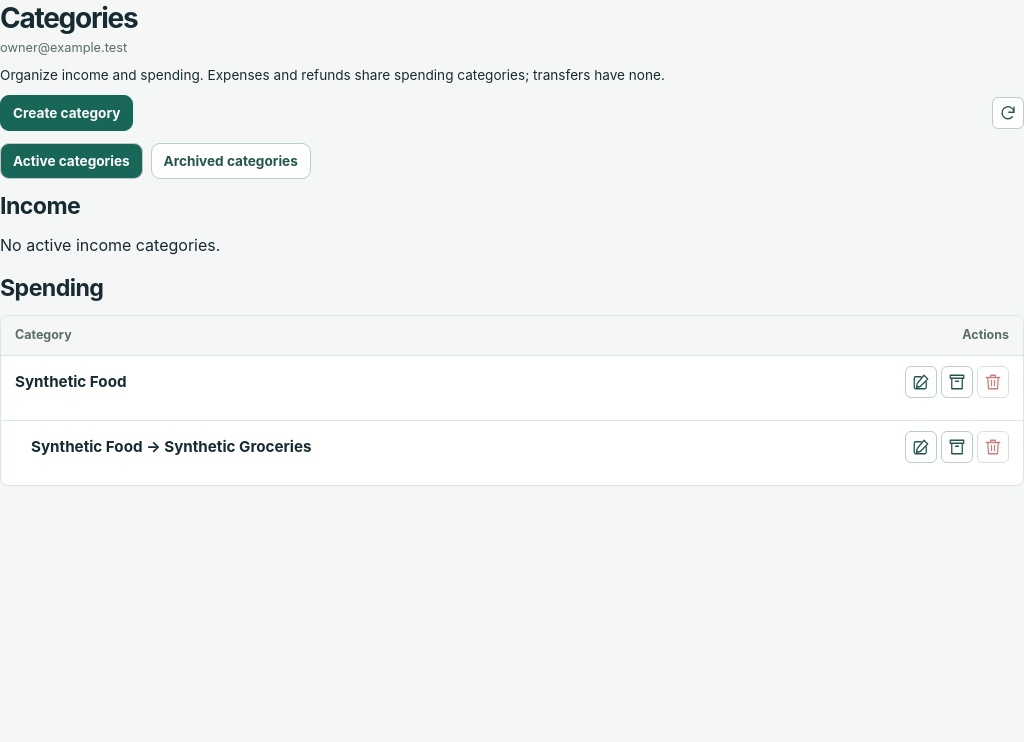
Test: locks used hierarchy and unused parents with children, preserving stale edits
Expected: the heading "Synthetic Food → Synthetic Groceries" is shown, x1=31 y1=437 x2=312 y2=456
Step 1. Click the button named "Edit category" in the row of "Synthetic Food → Synthetic Groceries" → click(921, 447), box x1=905 y1=431 x2=937 y2=463
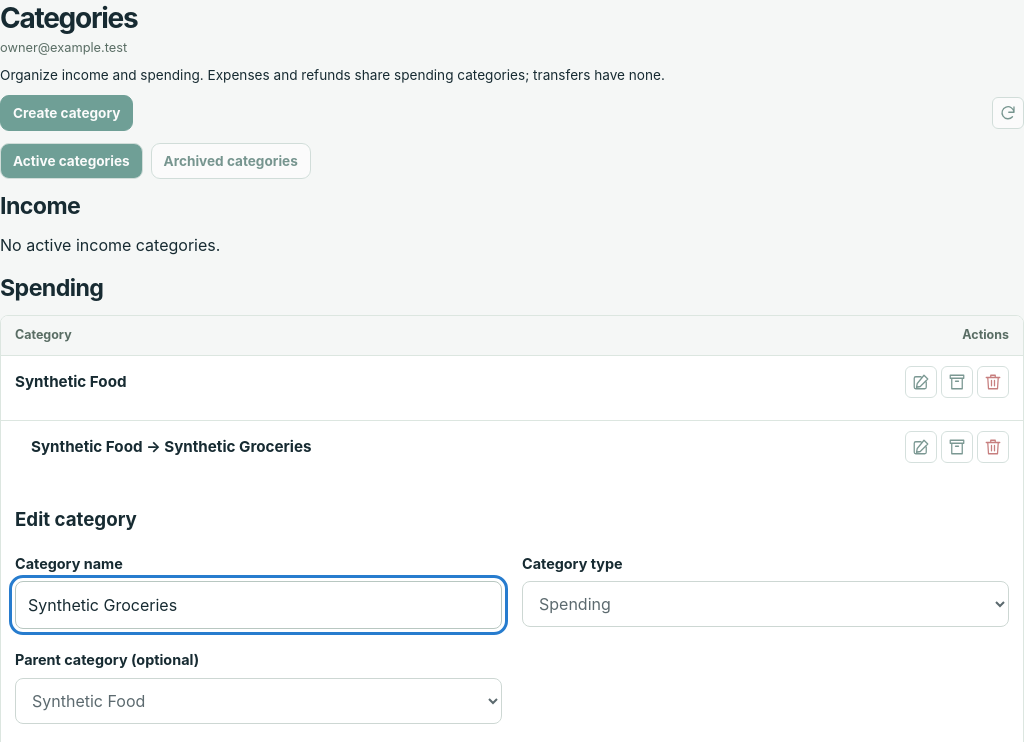
Expected: the dropdown labelled "Category type" is disabled, x1=522 y1=581 x2=1009 y2=627
Expected: the dropdown labelled "Parent category (optional)" is disabled, x1=15 y1=678 x2=502 y2=724
Step 2. Replace the text in the field labelled "Category name" with "Synthetic Shopping" → (258, 605), box x1=15 y1=581 x2=502 y2=629
(page scrolled)
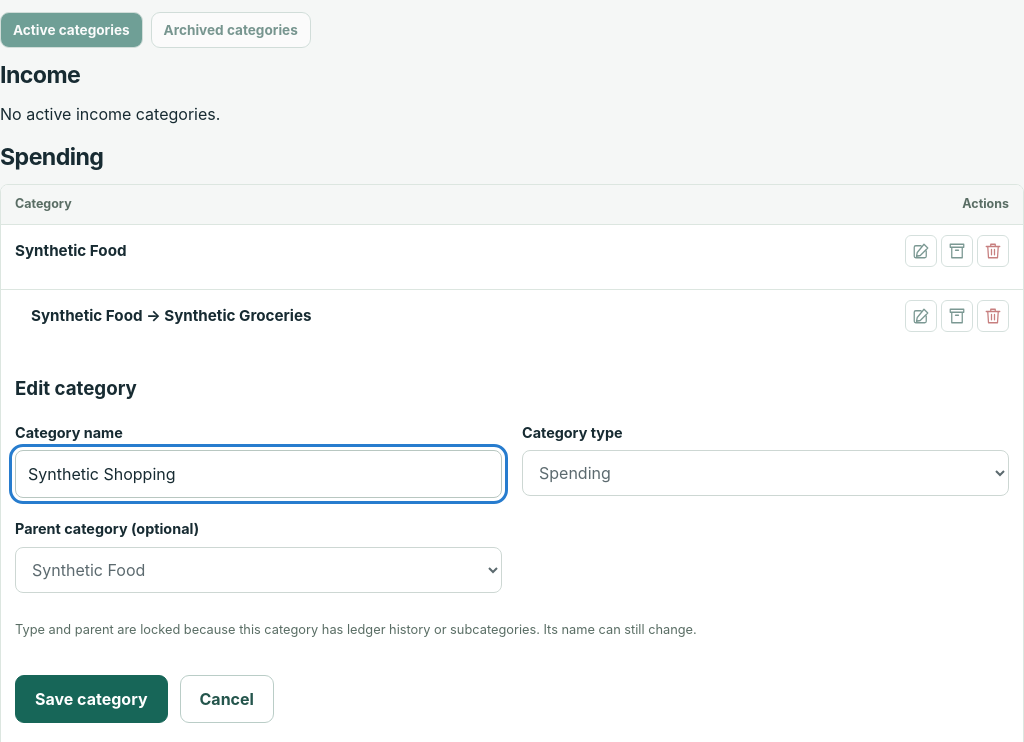
Step 3. Click the button "Save category" → click(91, 699), box x1=15 y1=675 x2=168 y2=723
(page scrolled)
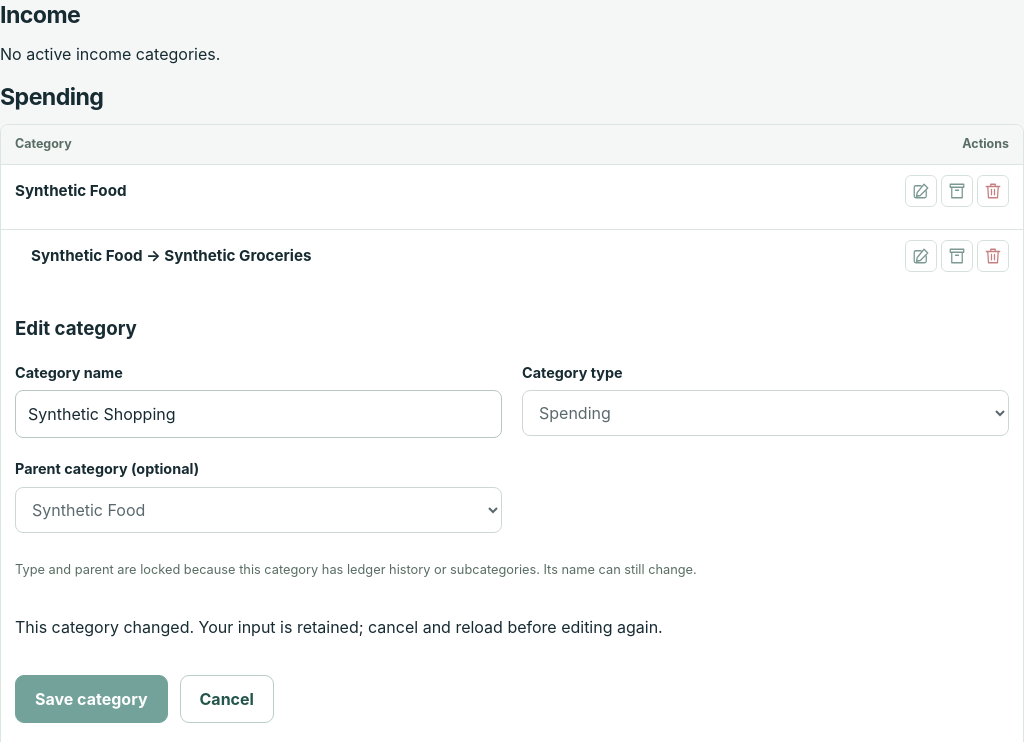
Expected: the button "Save category" is disabled, x1=15 y1=675 x2=168 y2=723
Step 4. Click the button "Cancel" → click(227, 699), box x1=180 y1=675 x2=274 y2=723
(page scrolled)
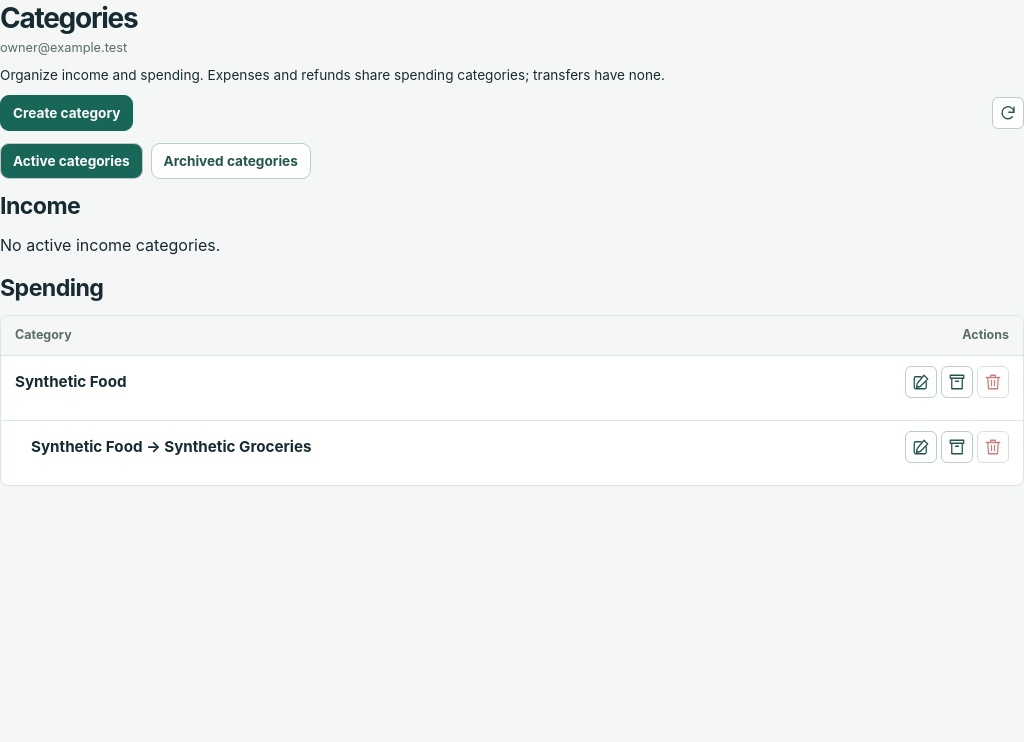
Expected: the heading "Synthetic Food → Synthetic Groceries" is shown, x1=31 y1=437 x2=312 y2=456
Step 5. Click the 1st button named "Edit category" → click(921, 382), box x1=905 y1=366 x2=937 y2=398
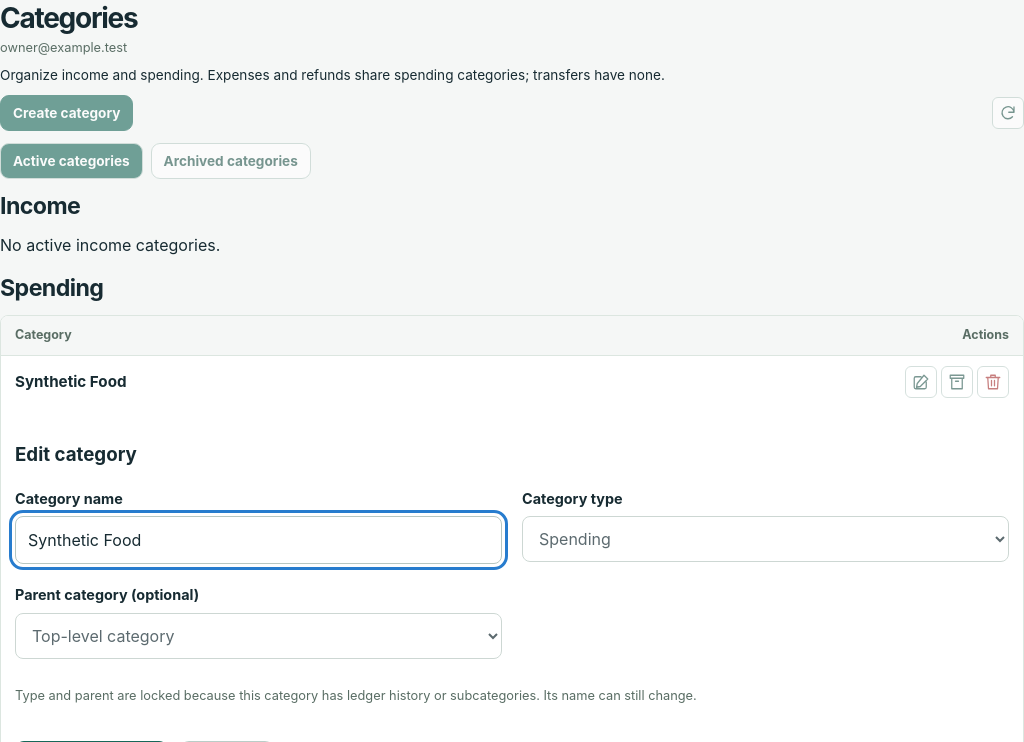
Expected: the dropdown labelled "Category type" is disabled, x1=522 y1=516 x2=1009 y2=562
